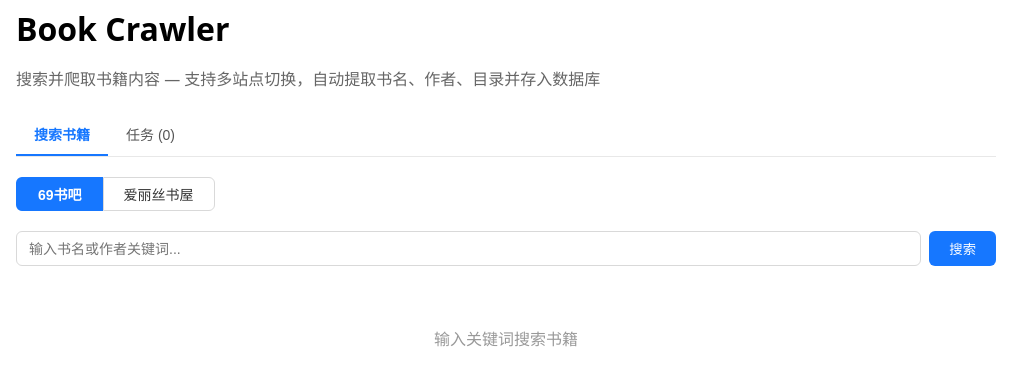
Test: 搜索终态 › 全来源受限时显示搜索不可用并清理旧结果
Type "龙族" into the field with placeholder "输入书名或作者关键词..." at [469, 249], box [16,231,921,266]
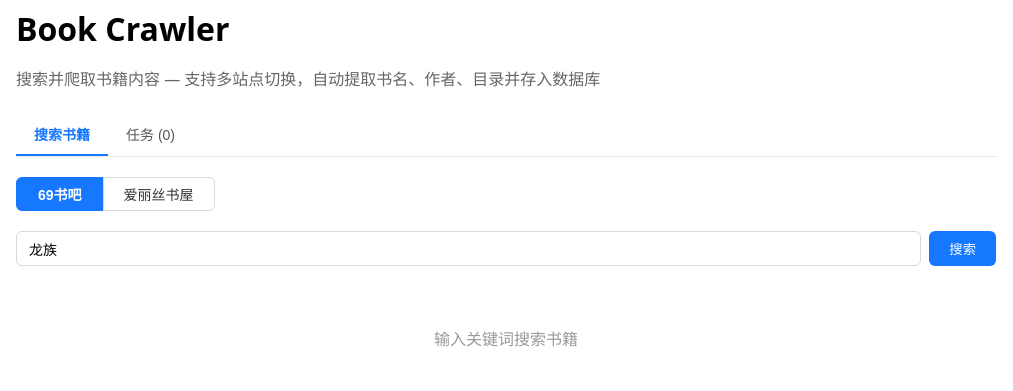
Click the button "搜索" at [963, 249], box [929,231,996,266]
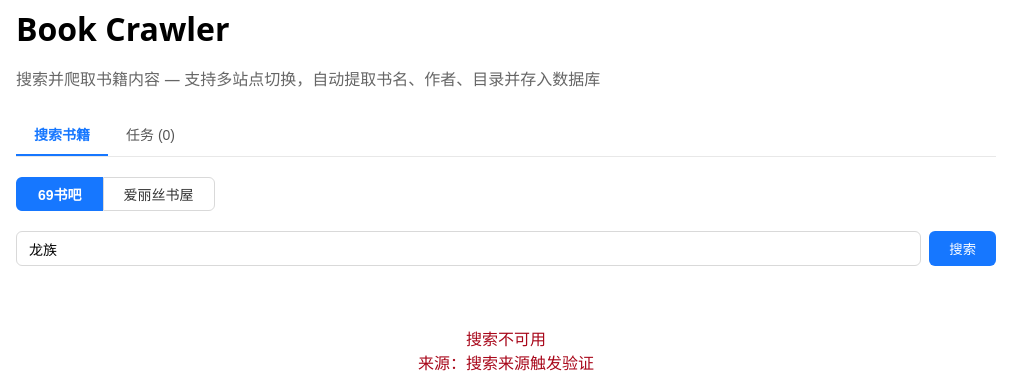
Expected: the text "搜索不可用" is shown, [466,328,546,350]
Expected: the message shows "搜索来源触发验证", [466,352,594,374]
